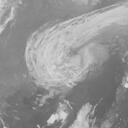cyclone: (24, 27, 85, 93)
